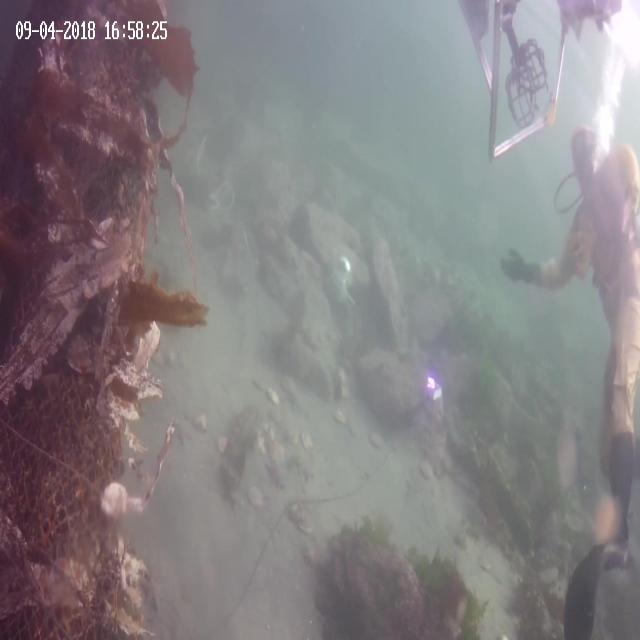scallop: (250, 428, 266, 453), (265, 384, 280, 408), (216, 436, 232, 458), (252, 373, 270, 392), (193, 414, 210, 434), (300, 433, 316, 454), (302, 542, 318, 563), (246, 484, 260, 507), (421, 460, 435, 482), (368, 434, 386, 451), (332, 408, 346, 426), (287, 503, 301, 520), (283, 379, 296, 397), (298, 516, 312, 531)
starfish: (555, 428, 577, 492), (591, 490, 617, 544), (139, 571, 163, 609), (222, 485, 244, 514), (268, 460, 286, 494), (170, 417, 188, 448), (266, 442, 284, 468)
